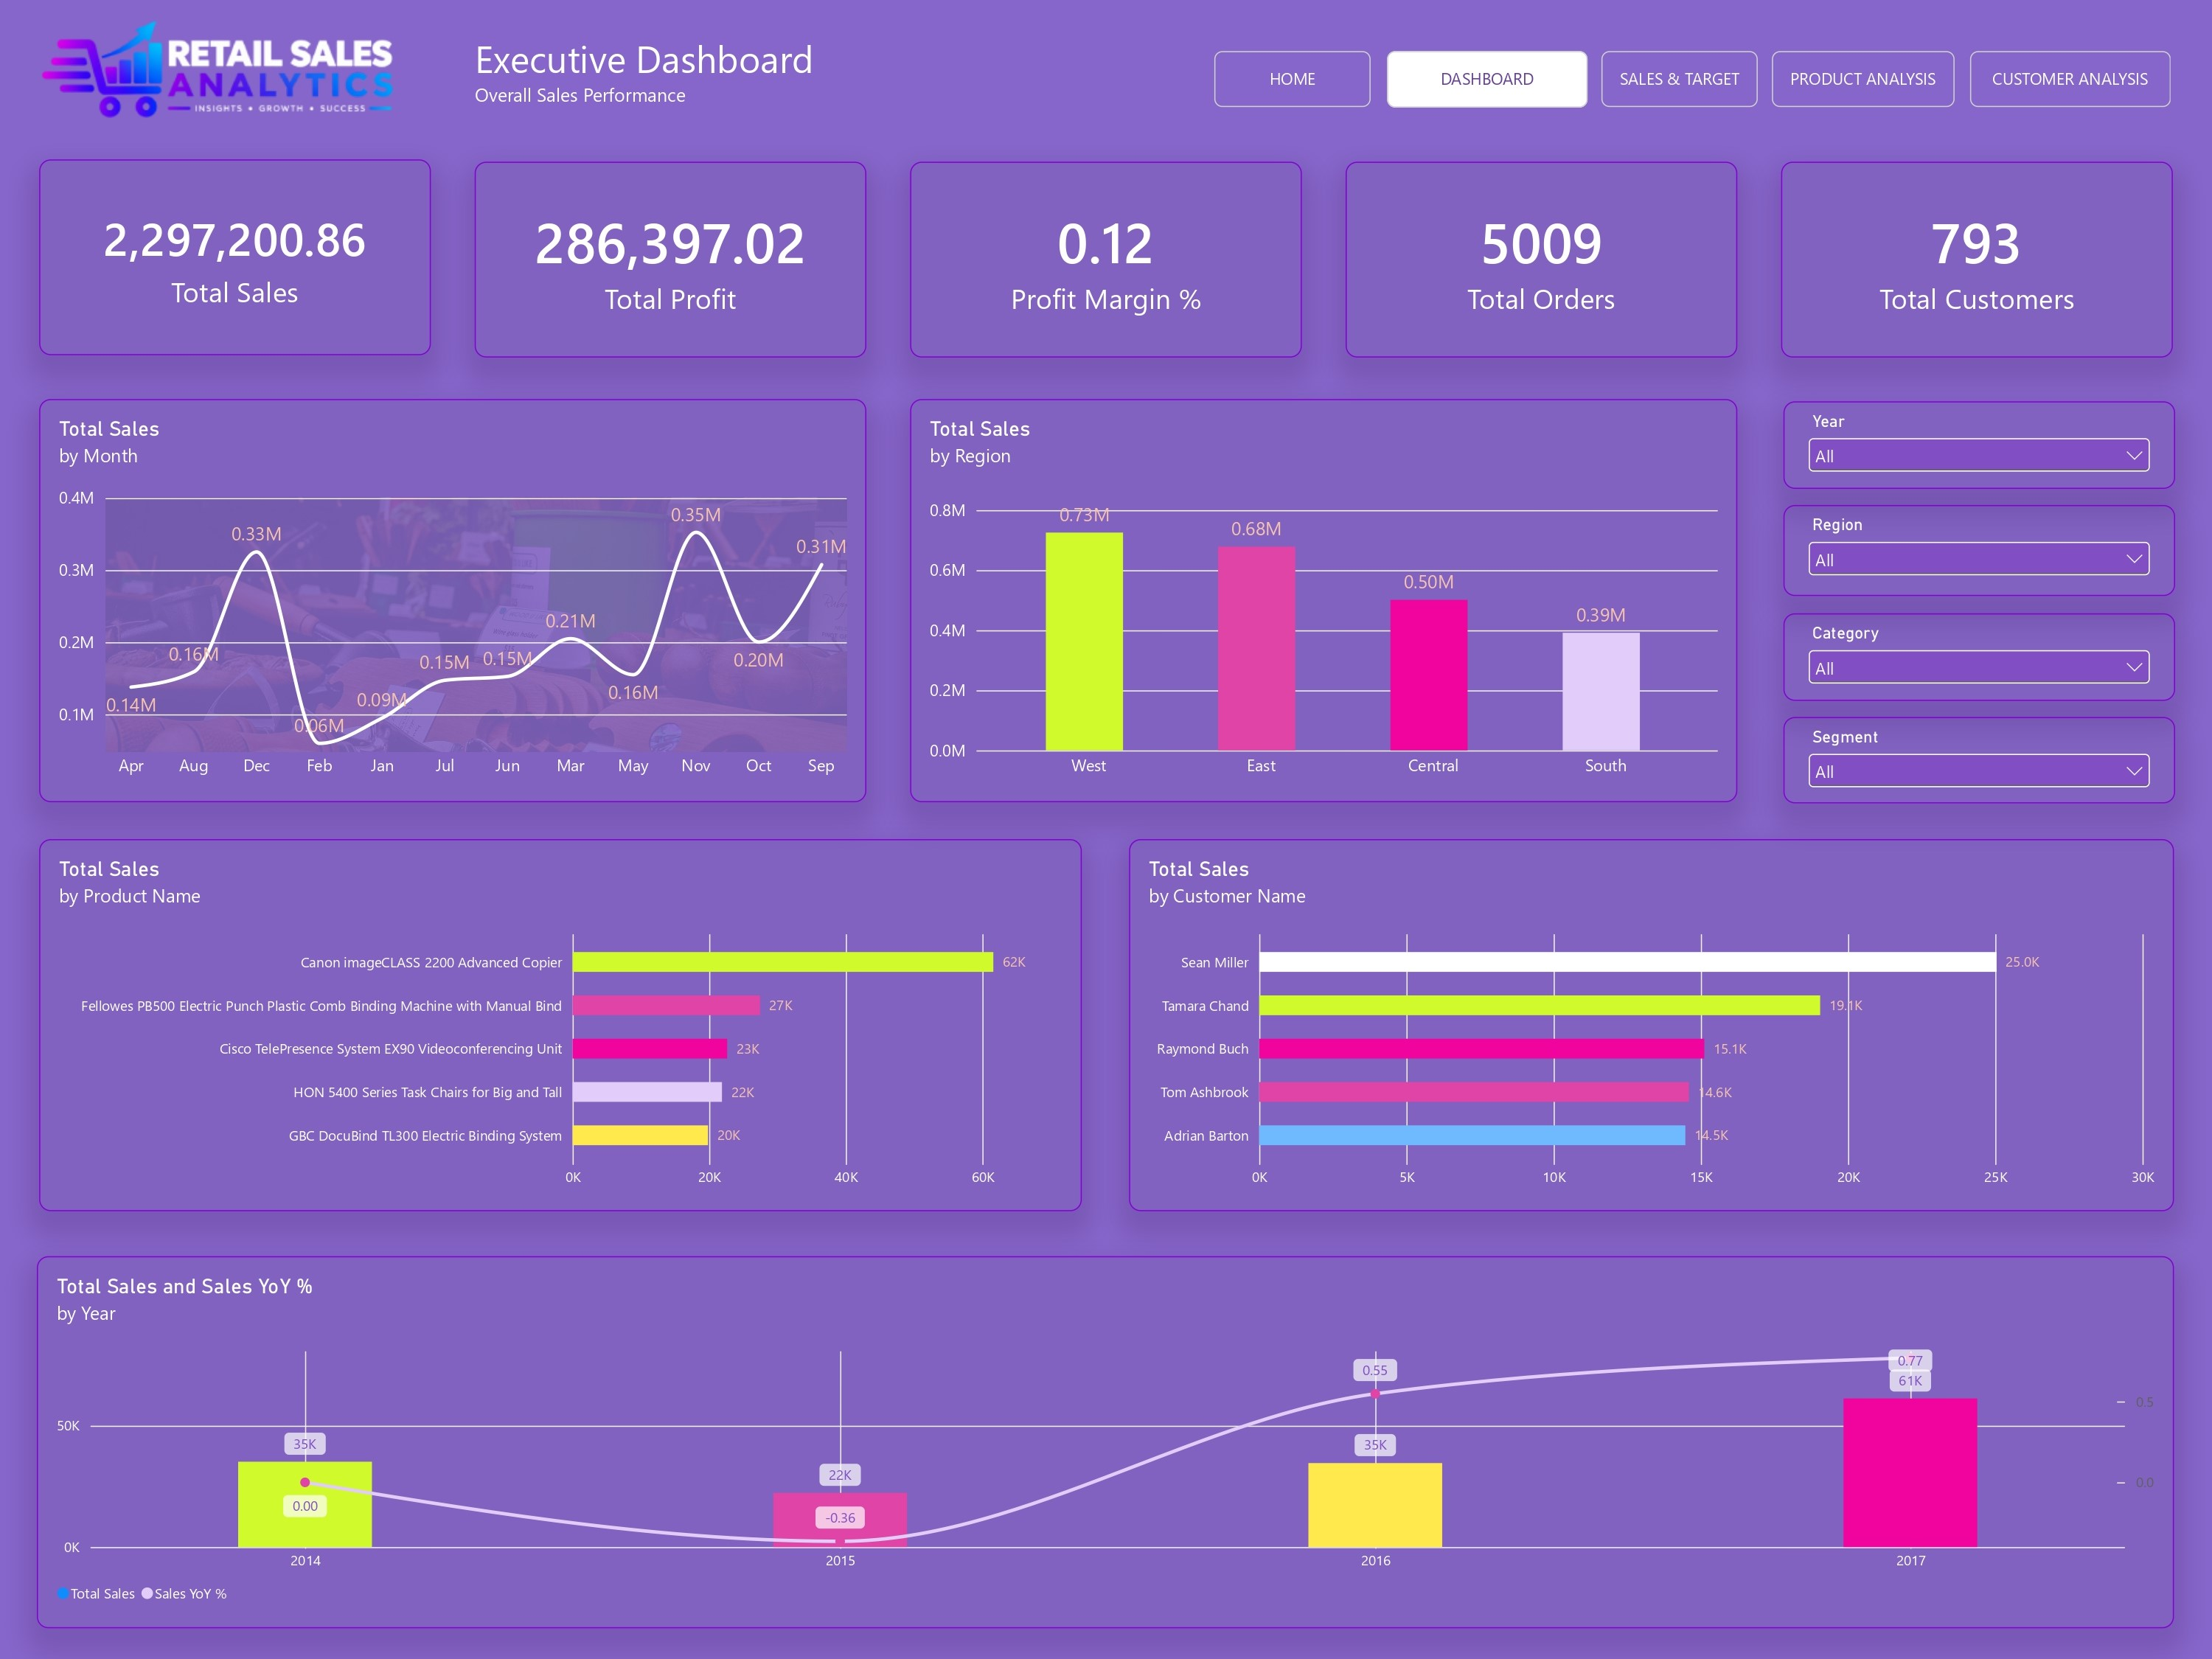

What the dashboard file says about the page in this screenshot:
{"tool":"powerbi","page":{"name":"Dashboard","canvas":[1920,1450],"ordinal":1},"visuals":[{"type":"textbox","box":[412.9,30,330,80],"z":0},{"type":"card","fields":{"Values":["FactSales.Total Sales"]},"box":[34,140,340,170],"z":1000},{"type":"card","fields":{"Values":["FactSales.Total Profit"]},"box":[412.2,141.3,340,170],"z":2000},{"type":"card","fields":{"Values":["FactSales.Profit Margin %"]},"box":[790.3,141.3,340,170],"z":3000},{"type":"card","fields":{"Values":["FactSales.Total Orders"]},"box":[1168.5,141.3,340,170],"z":4000},{"type":"card","fields":{"Values":["FactSales.Total Customers"]},"box":[1546.7,141.3,340,170],"z":5000},{"type":"lineChart","fields":{"Category":["DimDate.Month","DimDate.Year"],"Y":["FactSales.Total Sales"]},"box":[34,348,718,350],"z":6000},{"type":"clusteredColumnChart","fields":{"Category":["FactSales.Region"],"Y":["FactSales.Total Sales"]},"box":[790,348,718,350],"z":7000},{"type":"barChart","fields":{"Category":["FactSales.Product Name"],"Y":["FactSales.Total Sales"]},"box":[33.3,730,905,323.3],"z":8000},{"type":"barChart","fields":{"Category":["FactSales.Customer Name"],"Y":["FactSales.Total Sales"]},"box":[980,730,906.7,323.3],"z":9000},{"type":"lineClusteredColumnComboChart","fields":{"Category":["DimDate.Year"],"Y":["FactSales.Total Sales"],"Y2":["FactSales.Sales YoY %"]},"box":[32.5,1092.5,1855,322.5],"z":10000},{"type":"slicer","fields":{"Values":["DimDate.Year"]},"box":[1547,349,340,76],"z":11000},{"type":"slicer","fields":{"Values":["FactSales.Region"]},"box":[1547,439,340,79],"z":12000},{"type":"slicer","fields":{"Values":["FactSales.Category"]},"box":[1548,533,340,76],"z":13000},{"type":"slicer","fields":{"Values":["FactSales.Segment"]},"box":[1548,623,340,75],"z":14000},{"type":"actionButton","box":[1054.6,45.7,135.7,48.6],"z":15000},{"type":"actionButton","box":[1389.7,45.7,135.7,48.6],"z":16000},{"type":"actionButton","box":[1538,45.7,158.6,48.6],"z":17000},{"type":"actionButton","box":[1709.2,45.7,174.3,48.6],"z":18000},{"type":"actionButton","box":[1203,46,174,49],"z":19000},{"type":"image","box":[32.9,5.7,315.7,110],"z":19001}]}

Visuals, with their boxes in screenshot pixels (x1, y1, x2, y2), scaled from the page's 1920x1450 canvas onto the 2212x1659 screenshot:
textbox: [x1=476, y1=35, x2=856, y2=126]
card - FactSales.Total Sales: [x1=39, y1=160, x2=431, y2=355]
card - FactSales.Total Profit: [x1=475, y1=161, x2=866, y2=356]
card - FactSales.Profit Margin %: [x1=911, y1=161, x2=1302, y2=356]
card - FactSales.Total Orders: [x1=1346, y1=161, x2=1738, y2=356]
card - FactSales.Total Customers: [x1=1782, y1=161, x2=2174, y2=356]
lineChart - DimDate.Month x DimDate.Year: [x1=39, y1=398, x2=866, y2=799]
clusteredColumnChart - FactSales.Region x FactSales.Total Sales: [x1=910, y1=398, x2=1737, y2=799]
barChart - FactSales.Product Name x FactSales.Total Sales: [x1=38, y1=835, x2=1081, y2=1205]
barChart - FactSales.Customer Name x FactSales.Total Sales: [x1=1129, y1=835, x2=2174, y2=1205]
lineClusteredColumnComboChart - DimDate.Year x FactSales.Total Sales: [x1=38, y1=1250, x2=2174, y2=1619]
slicer - DimDate.Year: [x1=1782, y1=400, x2=2174, y2=486]
slicer - FactSales.Region: [x1=1782, y1=502, x2=2174, y2=593]
slicer - FactSales.Category: [x1=1784, y1=610, x2=2175, y2=697]
slicer - FactSales.Segment: [x1=1784, y1=713, x2=2175, y2=799]
actionButton: [x1=1215, y1=52, x2=1371, y2=108]
actionButton: [x1=1601, y1=52, x2=1757, y2=108]
actionButton: [x1=1772, y1=52, x2=1955, y2=108]
actionButton: [x1=1969, y1=52, x2=2170, y2=108]
actionButton: [x1=1386, y1=52, x2=1587, y2=108]
image: [x1=38, y1=7, x2=402, y2=133]
